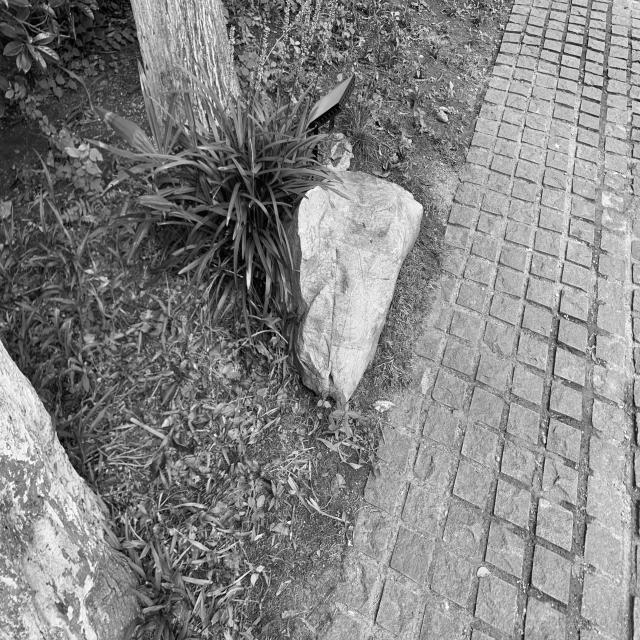Stone: (288, 171, 422, 399)
